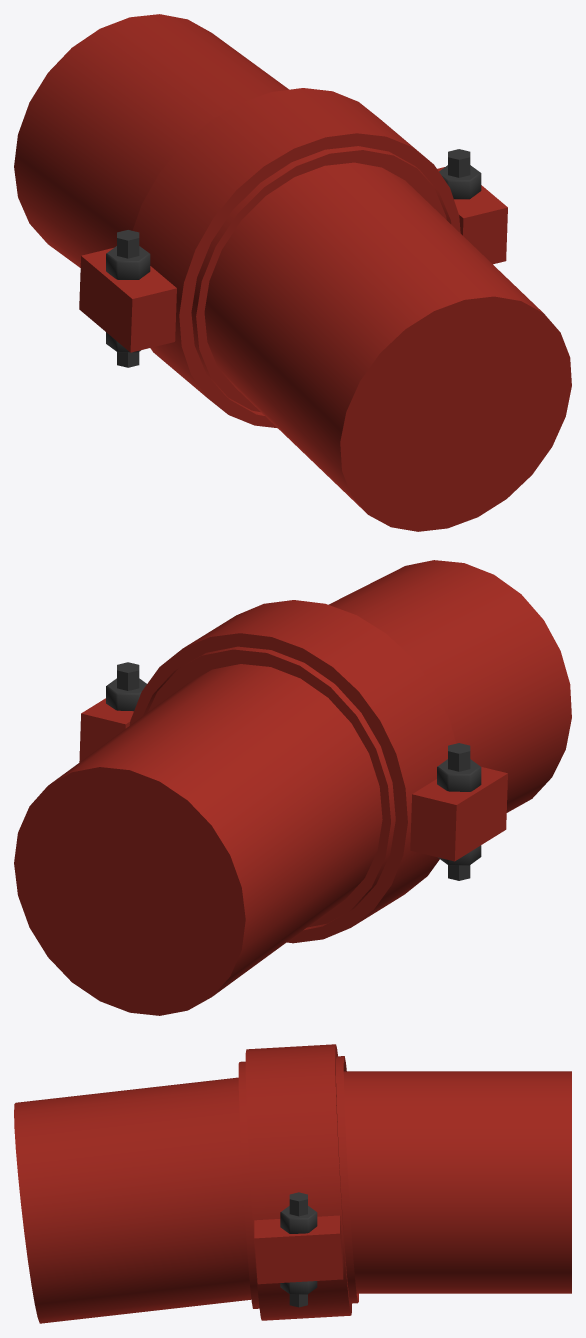
Rendered from Kit_SprinklerMain_Slope8.fbx.
3 renders of one model, top to bottom at view 1: azimuth 30°, elevation 25°; view 2: azimuth 150°, elevation 25°; view 3: azimuth 270°, elevation 25°, orthographic. The views are drawn at different scales.
Parts seen in each view (by area): view 1: Kit_SprinklerMain_Slope8_LOD0; view 2: Kit_SprinklerMain_Slope8_LOD0; view 3: Kit_SprinklerMain_Slope8_LOD0.
Boxes of the visible parts, x1,y1,x2,y2 form: Kit_SprinklerMain_Slope8_LOD0: (14,14,571,531); Kit_SprinklerMain_Slope8_LOD0: (14,560,571,1015); Kit_SprinklerMain_Slope8_LOD0: (14,1044,571,1323).
Size of what is drawn, in the model's own units: 0.1854 by 0.1451 by 0.286.
